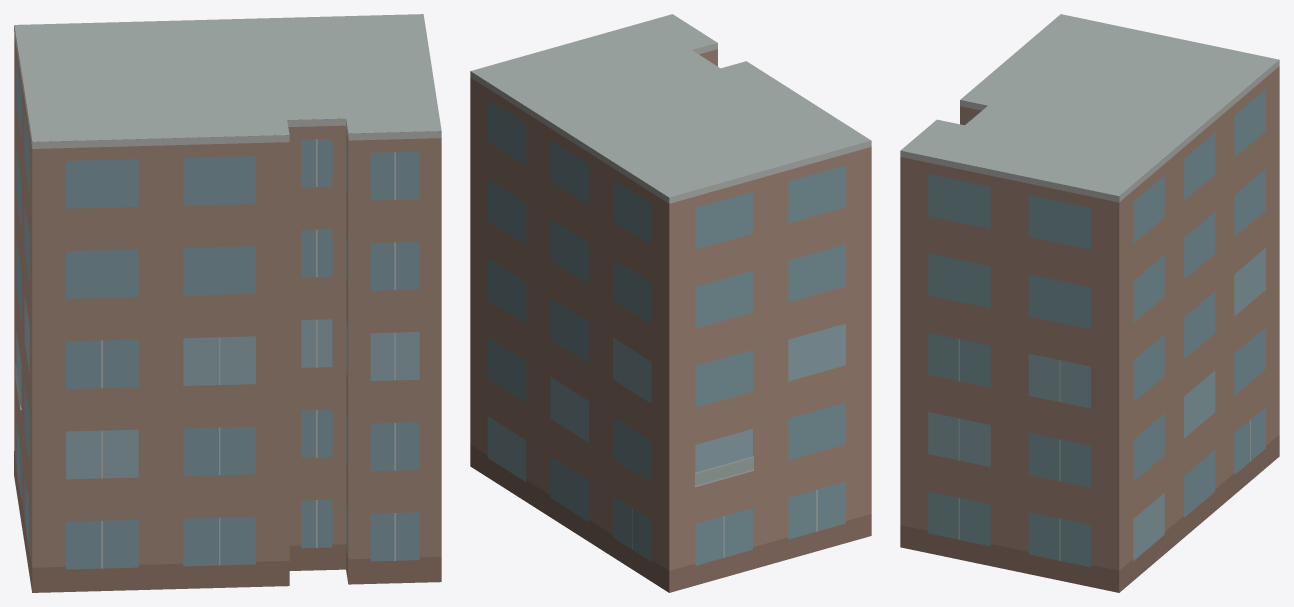
The model's file is survey-upis-32524602.glb.
3 renders of one model, left to right at view 1: azimuth 30°, elevation 25°; view 2: azimuth 150°, elevation 25°; view 3: azimuth 270°, elevation 25°, orthographic. The views are drawn at different scales.
Visible parts, largest first — view 1: survey-upis-32524602.tmp; view 2: survey-upis-32524602.tmp; view 3: survey-upis-32524602.tmp.
Part boxes in pixels (bbox=[...]): survey-upis-32524602.tmp: bbox=[14, 14, 441, 592]; survey-upis-32524602.tmp: bbox=[470, 14, 871, 592]; survey-upis-32524602.tmp: bbox=[900, 14, 1279, 592].
Bounding box in the file's own units: 15.28 × 15.5 × 13.44.
